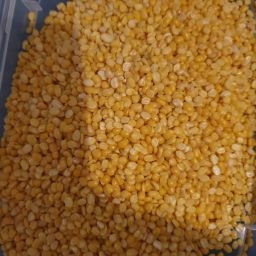Red Split Lentils(malka masar): (23, 4, 256, 256), (89, 97, 249, 242), (42, 45, 208, 176), (6, 75, 101, 252)
